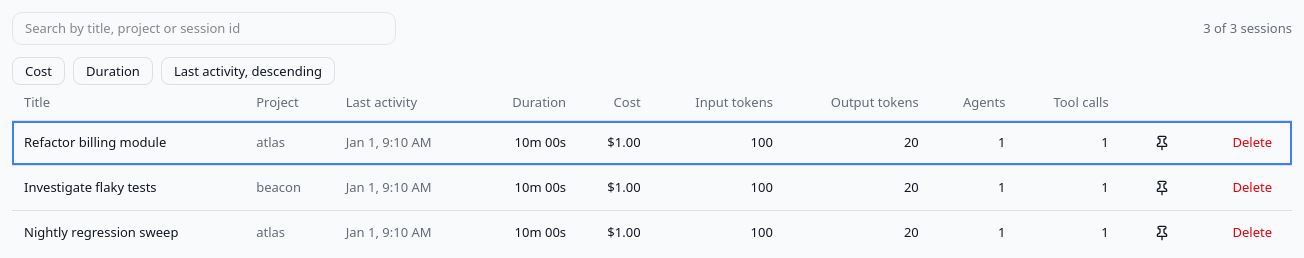
Test: SessionSearch › shows a no-search-matches state worded apart from the no-sessions-yet state (E3-S2-AC2)
Type "no-session-matches-this-query" into the search field at (204, 28), box [12, 12, 396, 45]
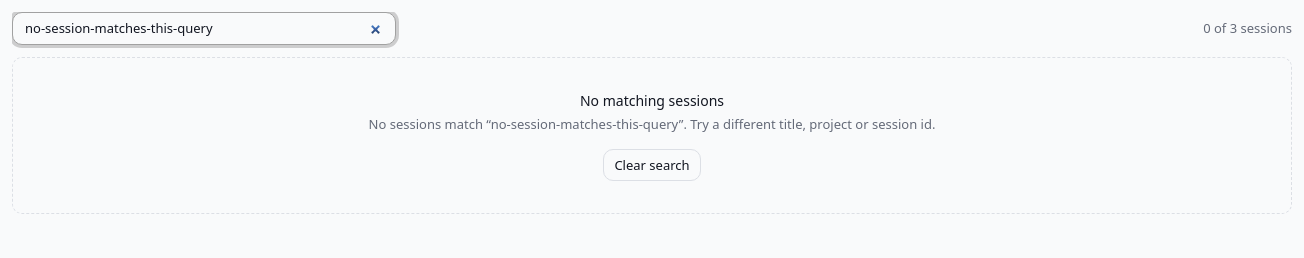
Now the table is gone
Now the heading "No matching sessions" is shown, box [580, 91, 724, 110]
Now the text "0 of 3 sessions" is shown, box [1203, 19, 1292, 38]
